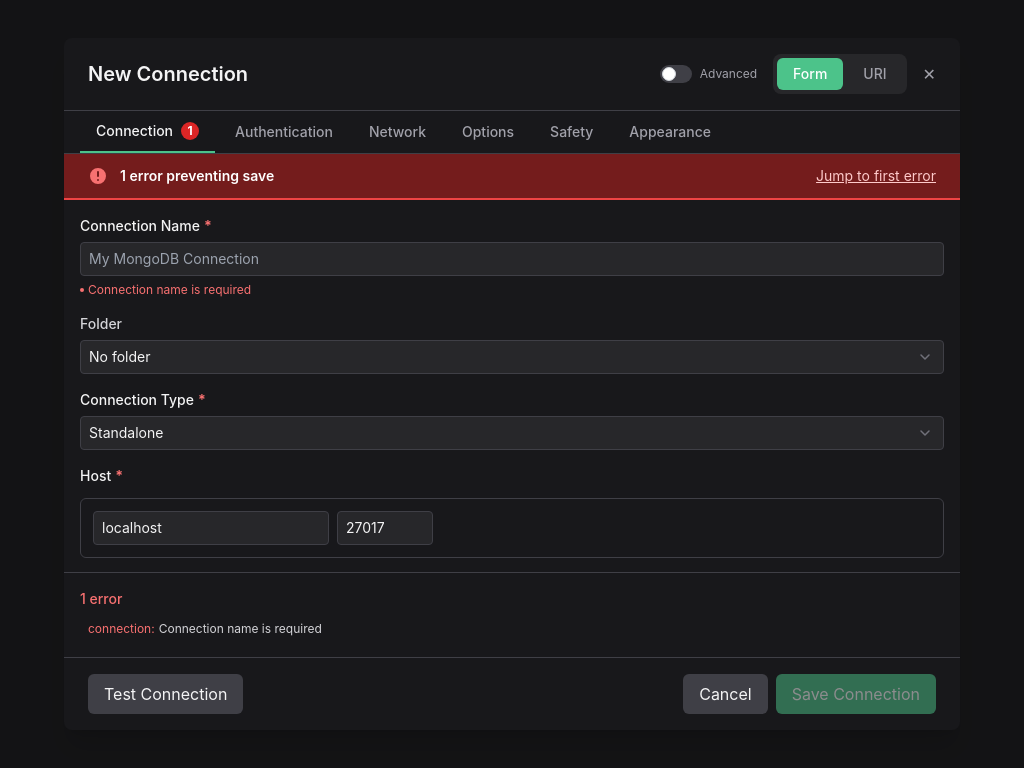
Test case: ConnectionFormV2 › URI Mode › switches to URI mode
// Find and click URI mode toggle
Click the button "URI" at (875, 74), box [847,58,903,90]
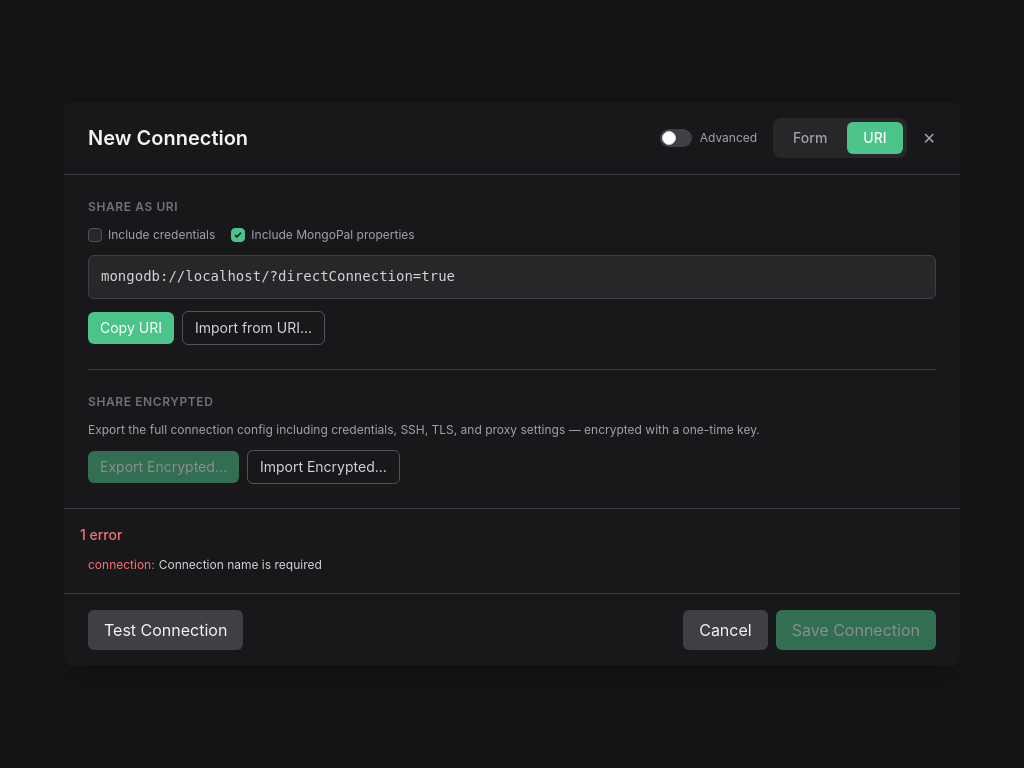
Now the button "Copy URI" is shown, box [88,312,174,344]
Now the button "Import from URI..." is shown, box [182,311,325,345]
